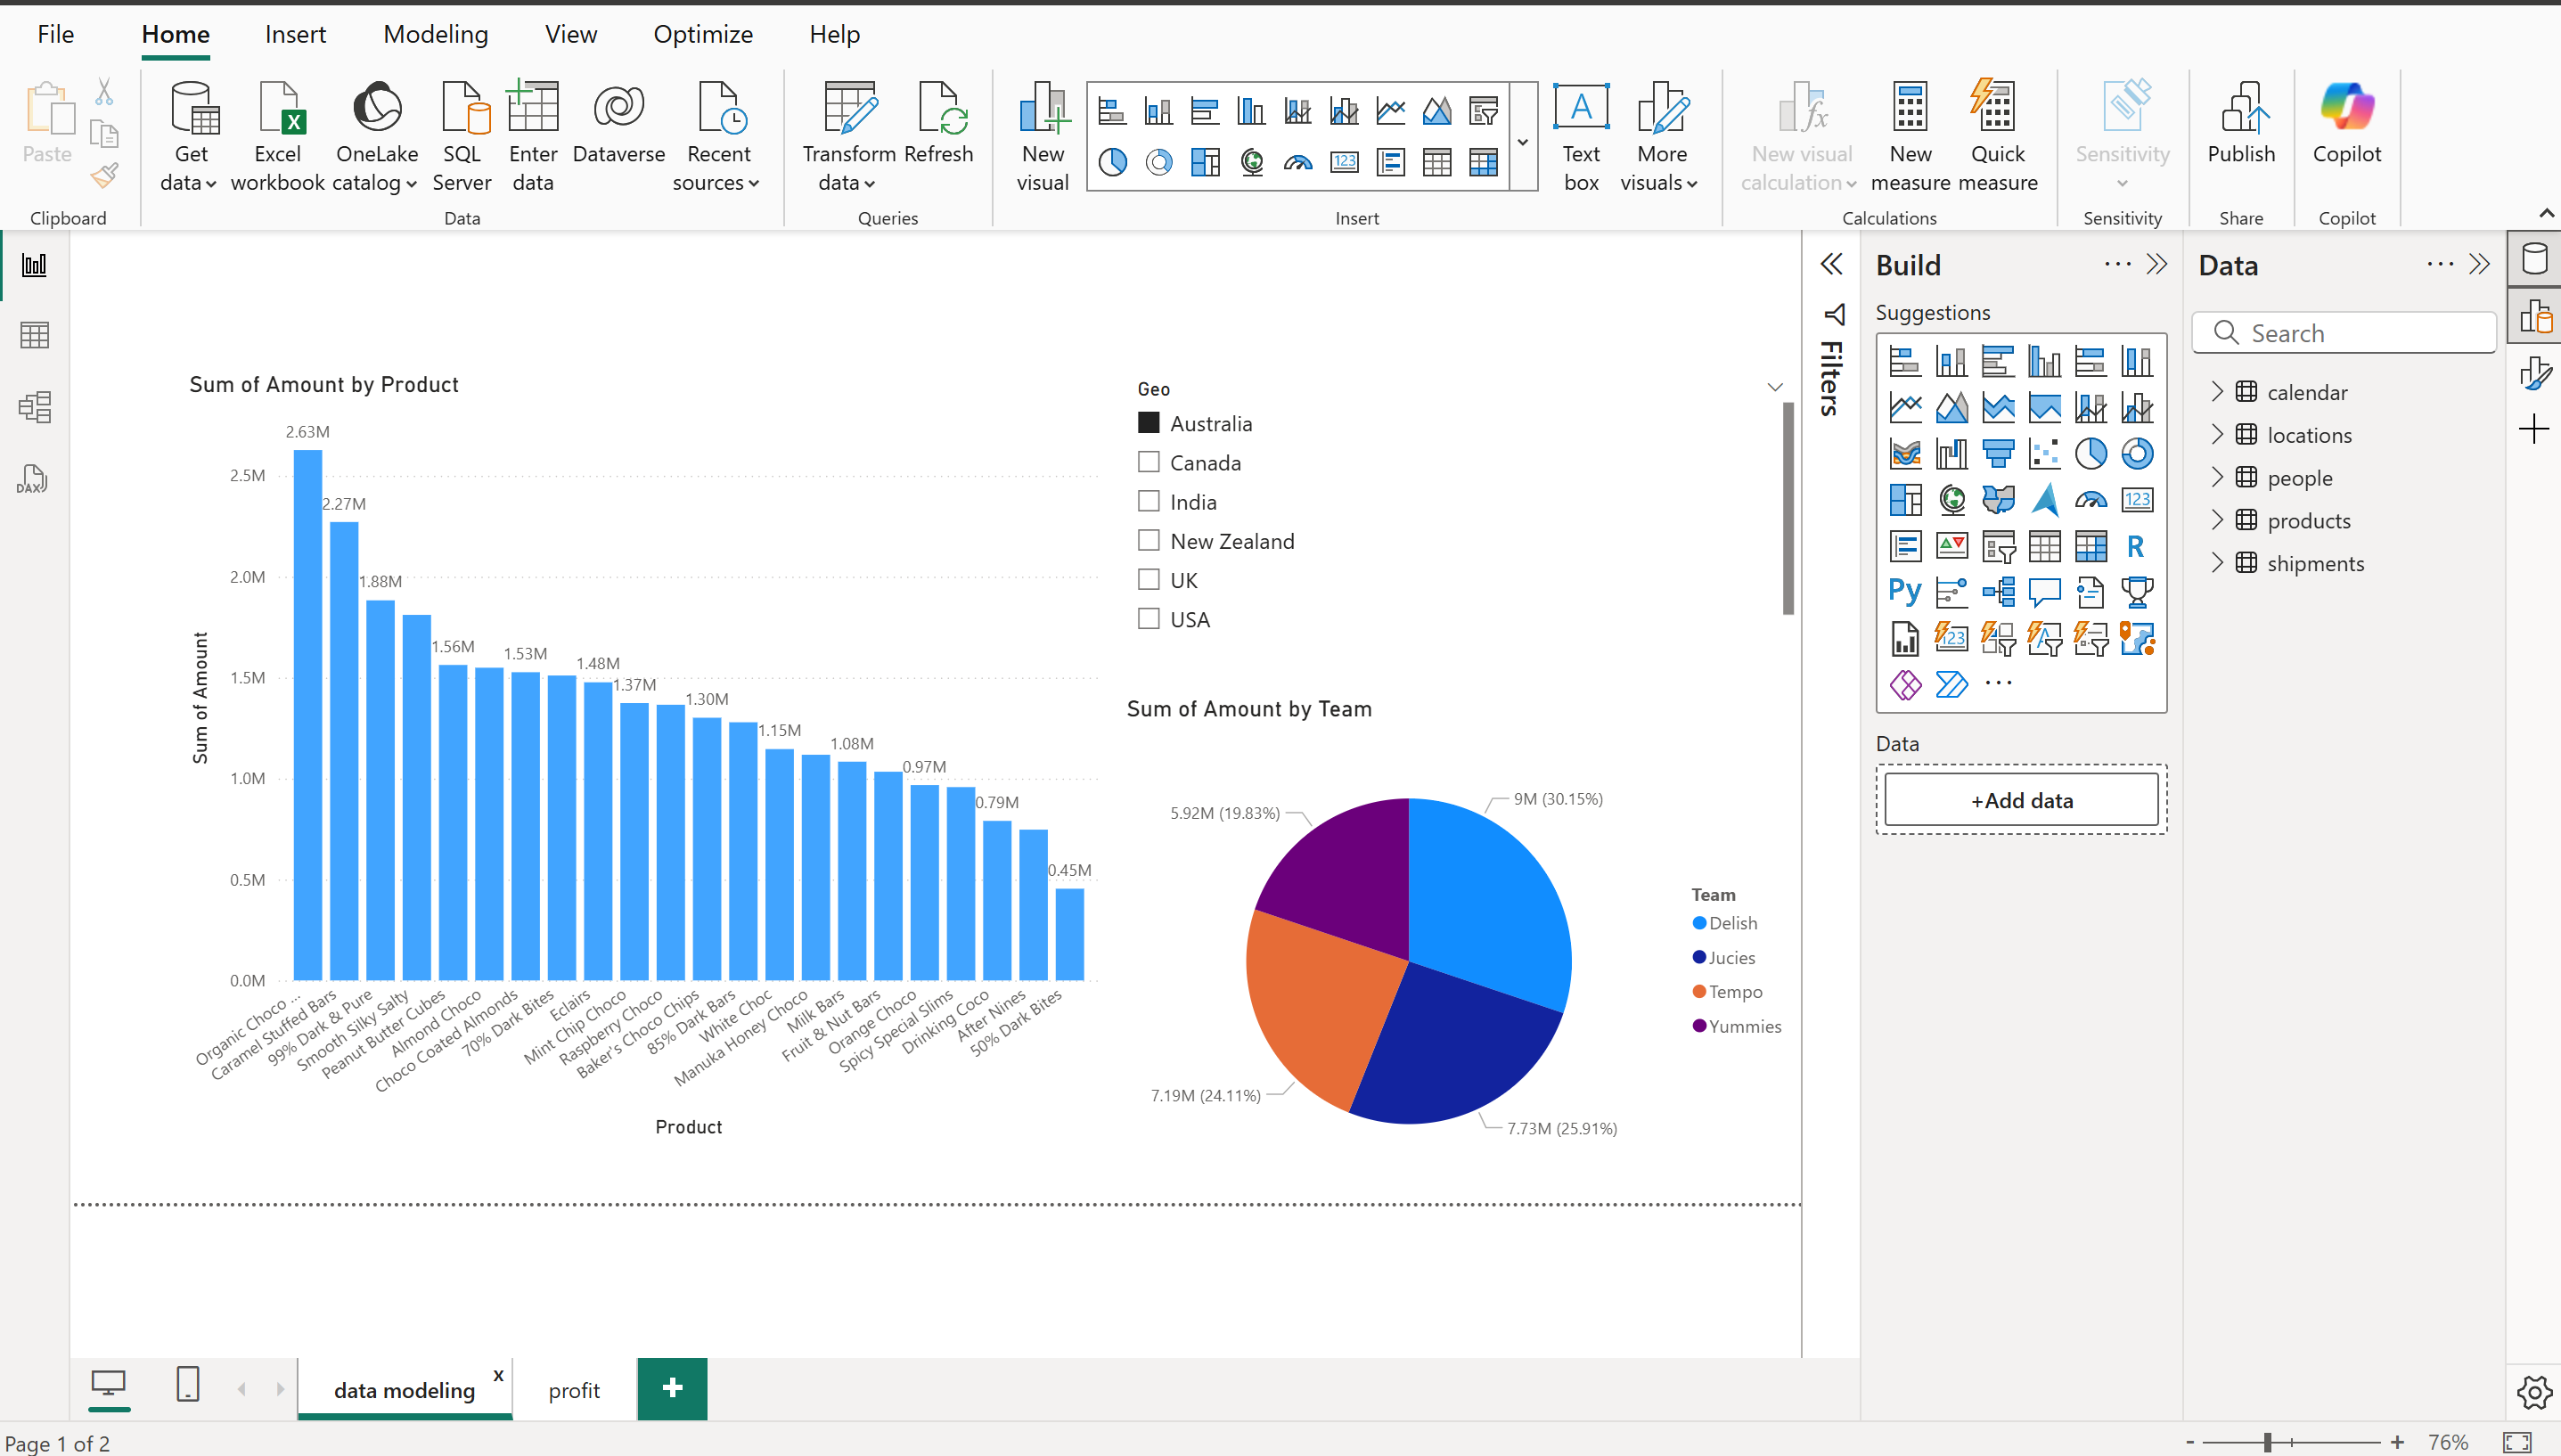

What the dashboard file says about the page in this screenshot:
{"tool":"powerbi","page":{"name":"data modeling","canvas":[1280,720],"ordinal":0},"visuals":[{"type":"clusteredColumnChart","fields":{"Category":["products.Product"],"Y":["Sum(shipments.Amount)"]},"box":[82.7,104.1,682.9,572.6],"z":0},{"type":"slicer","fields":{"Values":["locations.Geo"]},"box":[776.3,104.1,503.7,197.5],"z":1000},{"type":"pieChart","fields":{"Y":["Sum(shipments.Amount)"],"Category":["people.Team"]},"box":[776.3,344.5,503.7,375.1],"z":2000}]}

Visuals, with their boxes on the page's 1280x720 design canvas (x1, y1, x2, y2). These are canvas units, not pixel positions in the 2561x1456 screenshot, which may show the page scaled, cropped or inside an application window:
clusteredColumnChart - products.Product x Sum(shipments.Amount): (83,104,766,677)
slicer - locations.Geo: (776,104,1280,302)
pieChart - Sum(shipments.Amount) x people.Team: (776,344,1280,720)
